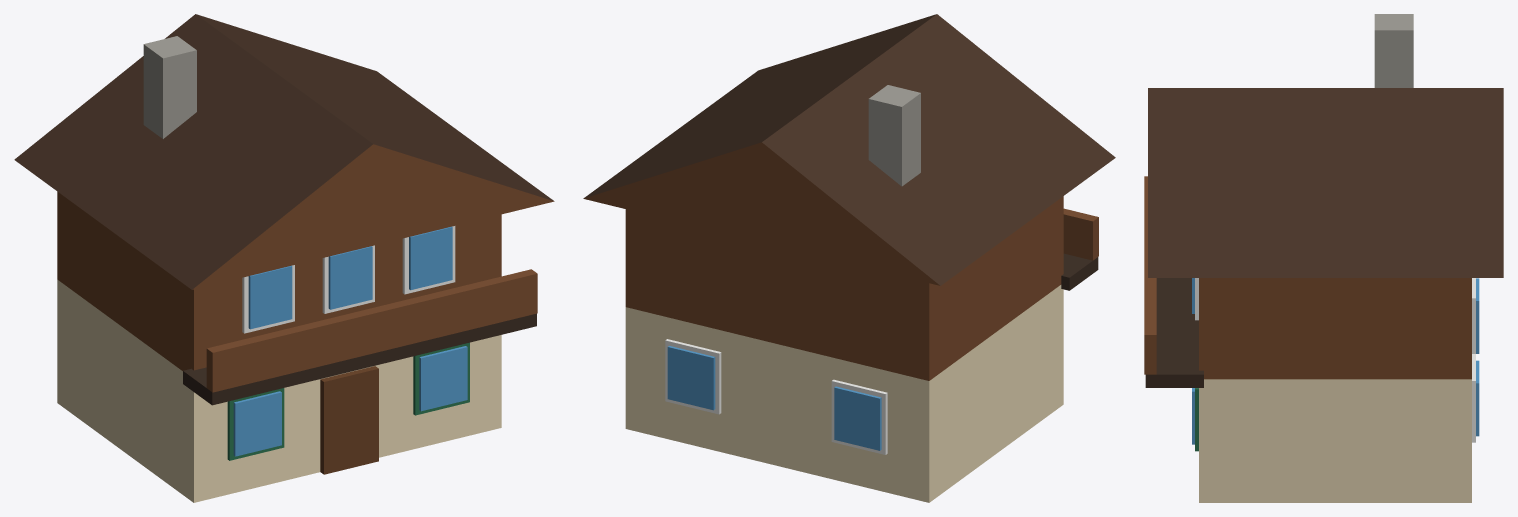
Rendered from 17_bavarian_chalet_2.obj.
3 views of the same model, side by side, from view 1: azimuth 30°, elevation 25°; view 2: azimuth 150°, elevation 25°; view 3: azimuth 270°, elevation 25° (orthographic).
Visible parts, largest first — view 1: 17_bavarian_chalet_2; view 2: 17_bavarian_chalet_2; view 3: 17_bavarian_chalet_2.
Part boxes in pixels (box(x1,y1,x2,y2)): 17_bavarian_chalet_2: box(14, 14, 554, 502); 17_bavarian_chalet_2: box(583, 14, 1115, 502); 17_bavarian_chalet_2: box(1144, 14, 1503, 502).
Bounding box in the file's own units: 1.72 × 1.66 × 1.48.
